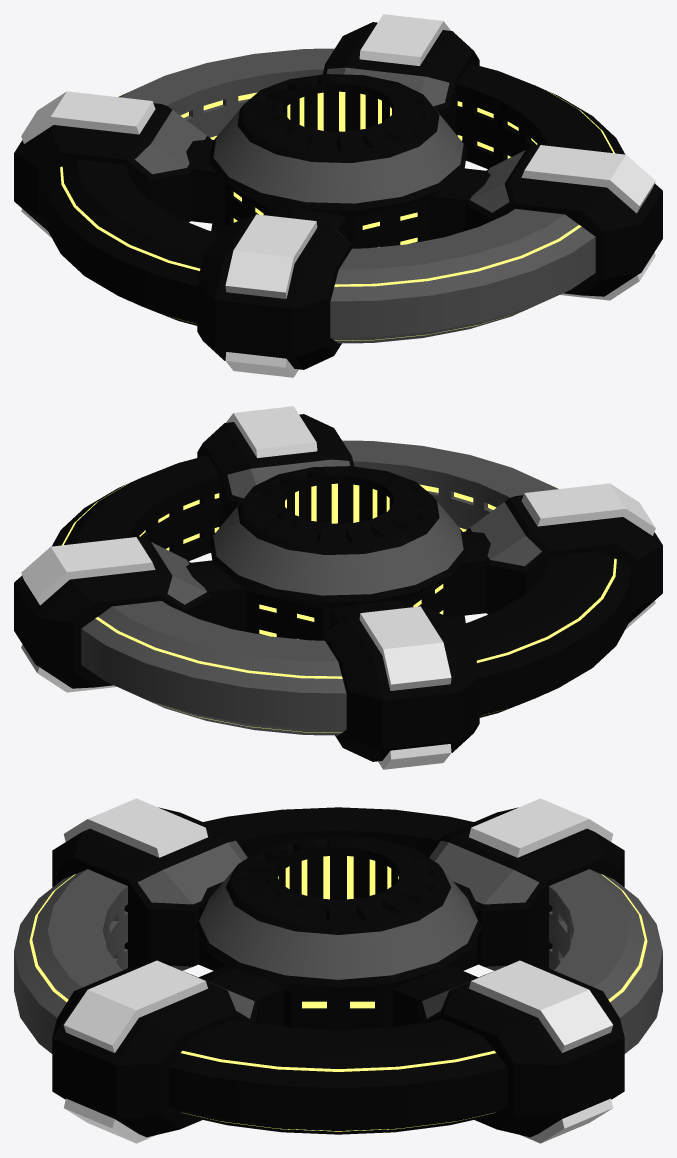
Rendered from structure_coheser.glb.
The picture shows the model from 3 angles, top to bottom: view 1: azimuth 30°, elevation 25°; view 2: azimuth 150°, elevation 25°; view 3: azimuth 270°, elevation 25°; orthographic projection. The views are drawn at different scales.
Visible parts, largest first — view 1: 01_Structure_Coheser, 01_Structure_Coheser_ring; view 2: 01_Structure_Coheser, 01_Structure_Coheser_ring; view 3: 01_Structure_Coheser, 01_Structure_Coheser_ring.
Part boxes in pixels (<box>): 01_Structure_Coheser: <box>14,14,662,377</box>; 01_Structure_Coheser_ring: <box>46,48,625,343</box>; 01_Structure_Coheser: <box>14,406,662,769</box>; 01_Structure_Coheser_ring: <box>51,440,630,735</box>; 01_Structure_Coheser: <box>52,798,624,1143</box>; 01_Structure_Coheser_ring: <box>14,807,662,1134</box>.
Bounding box in the file's own units: 0.9582 × 0.317 × 0.9582.
